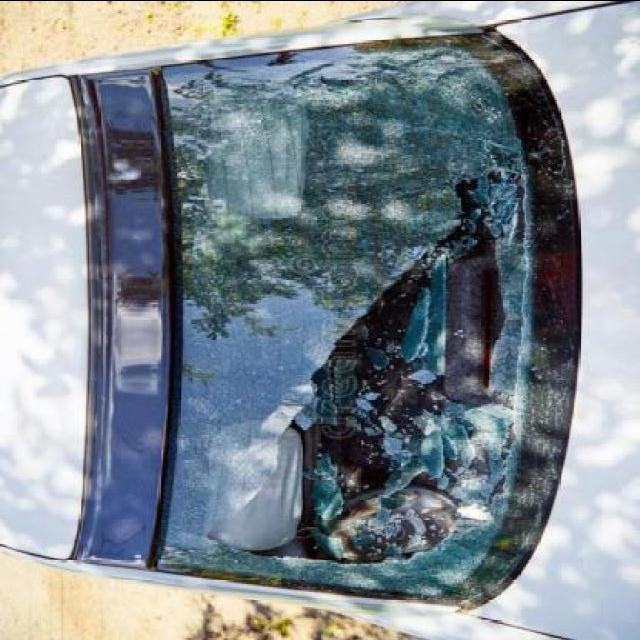Rear-windscreen-Damage: (131, 15, 608, 606)
